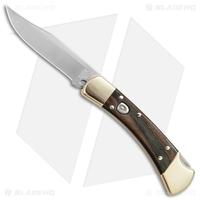knife: (4, 2, 184, 187)
